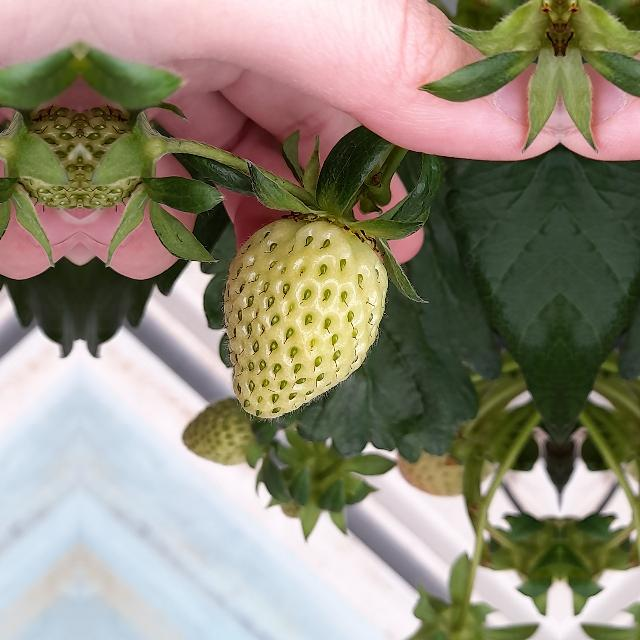Health_25: (223, 216, 387, 418), (1, 100, 80, 212), (80, 100, 158, 212)
